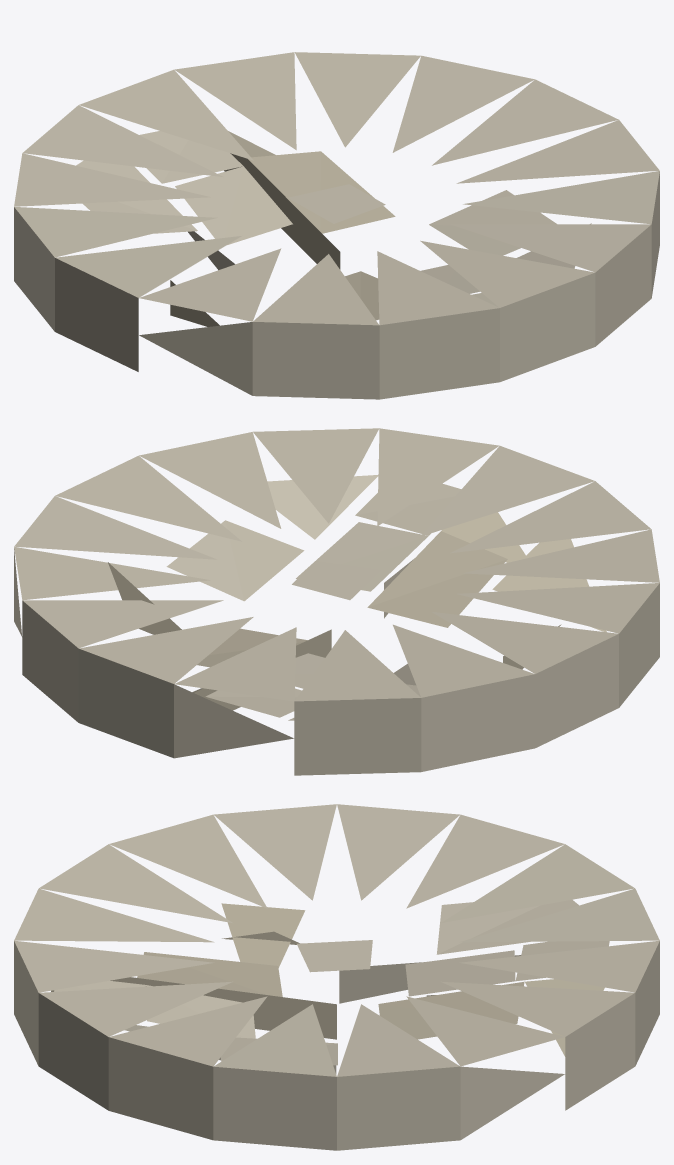
File: bone-light-shield.lod.glb
3 views of the same model, one above another, from view 1: azimuth 30°, elevation 25°; view 2: azimuth 150°, elevation 25°; view 3: azimuth 270°, elevation 25° (orthographic).
Visible parts, largest first — view 1: m; view 2: m; view 3: m.
Boxes of the visible parts, x1,y1,x2,y2 form: m: [14, 52, 659, 399]; m: [14, 428, 659, 775]; m: [14, 804, 659, 1150].
Bounding box in the file's own units: 0.34 × 0.1062 × 0.34.
